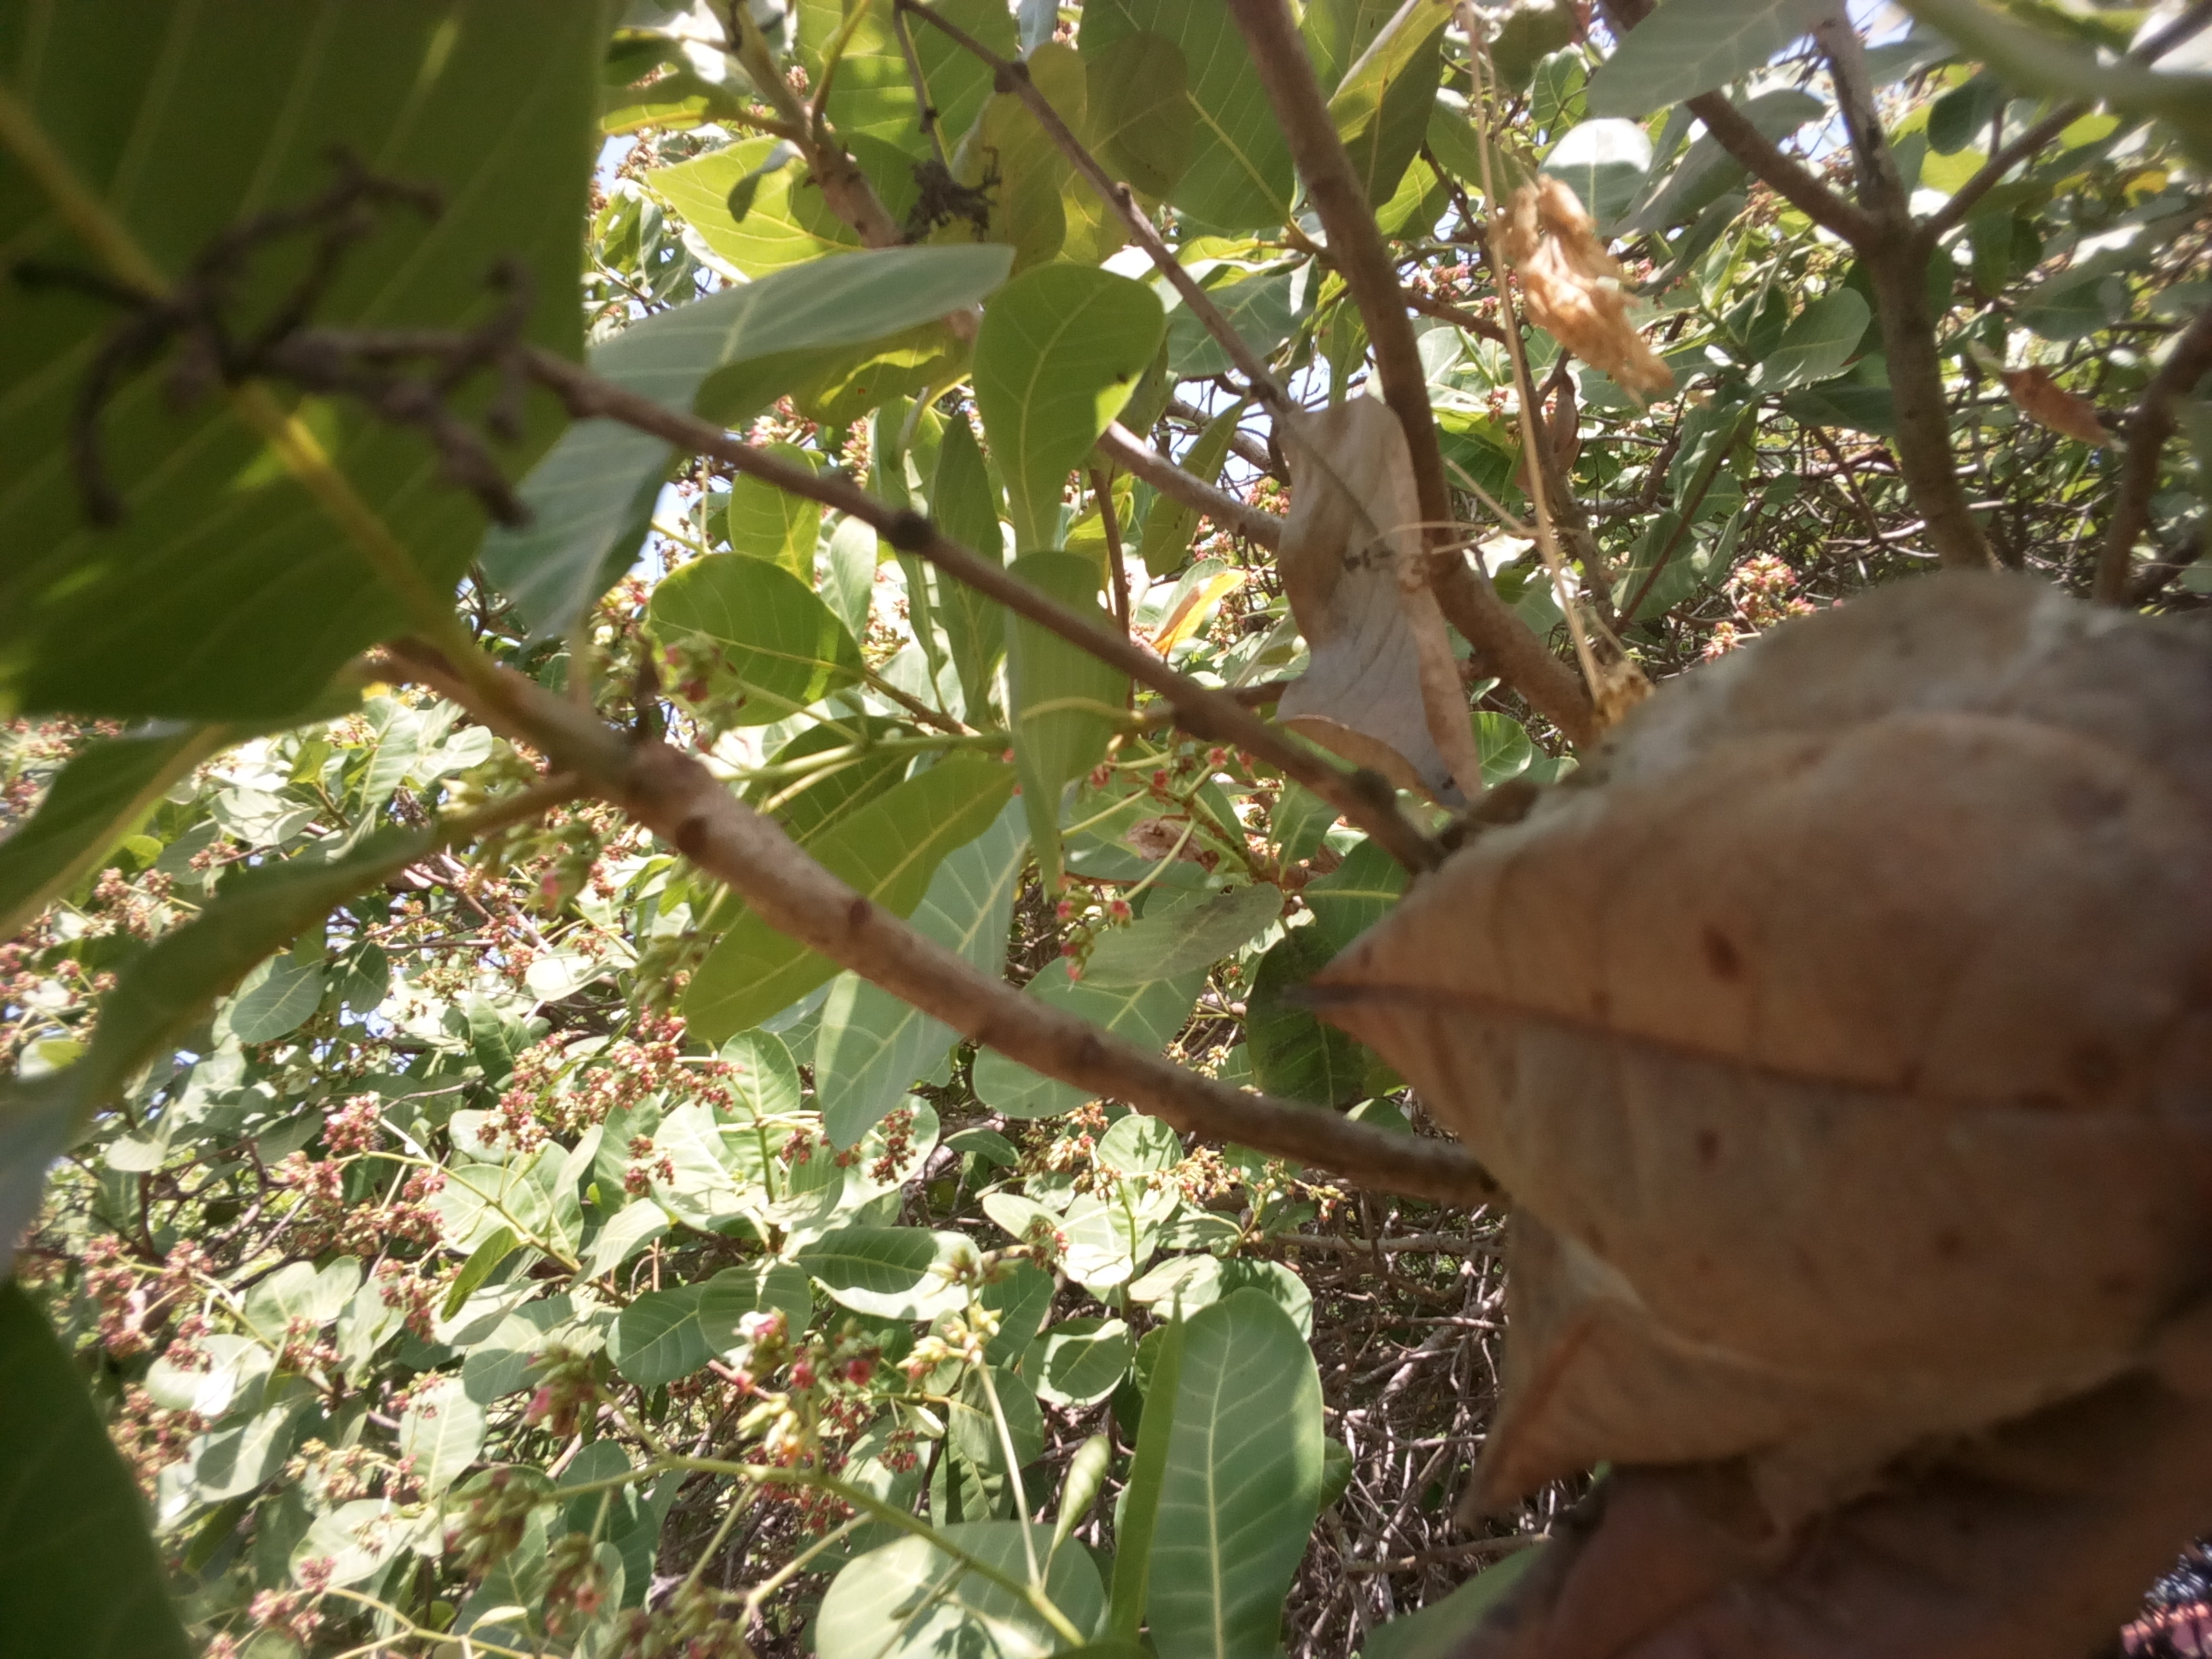Dessèchement des bourgeons: (122, 146, 559, 533), (873, 146, 1014, 237)
